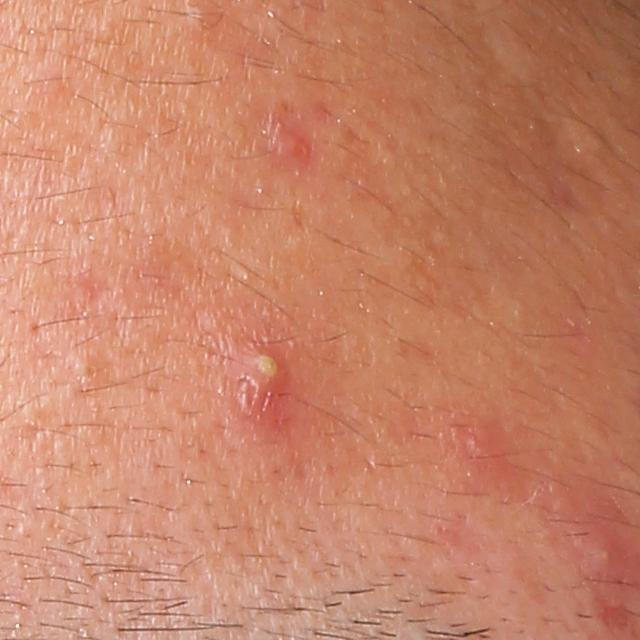comedo: (57, 349, 108, 405)
papule: (264, 113, 314, 164), (454, 426, 506, 475)
pustule: (214, 330, 307, 435)
